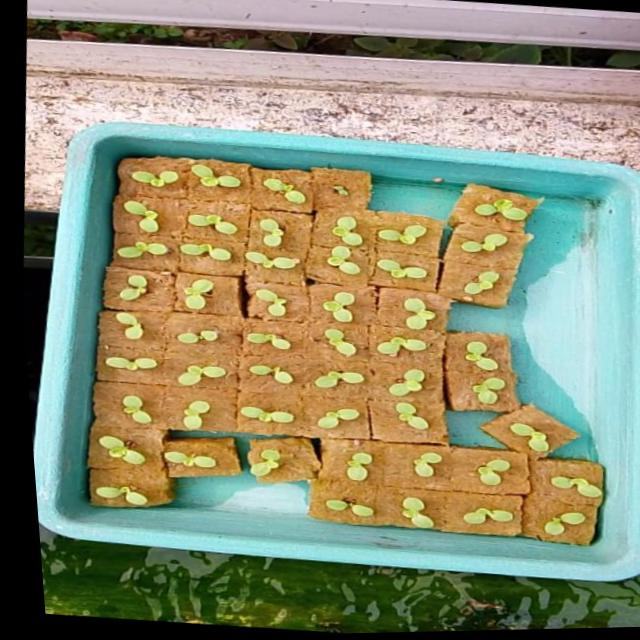Baby: (476, 408, 532, 450), (83, 392, 144, 427), (514, 504, 577, 536), (509, 472, 561, 503), (356, 328, 404, 358), (347, 249, 400, 276), (365, 364, 418, 391), (74, 262, 115, 296), (219, 281, 263, 312), (141, 317, 201, 338), (448, 192, 501, 215), (230, 169, 275, 196), (157, 155, 207, 179), (450, 372, 485, 406), (88, 193, 123, 226), (79, 233, 138, 252), (213, 244, 270, 263), (442, 502, 502, 520), (377, 293, 409, 326), (220, 360, 269, 381), (150, 362, 199, 383), (294, 287, 326, 318), (151, 272, 182, 304), (380, 493, 412, 524), (372, 398, 406, 427), (298, 240, 331, 269), (298, 323, 331, 352), (289, 366, 339, 385), (147, 237, 200, 254), (303, 211, 333, 241), (352, 216, 399, 235), (434, 228, 481, 247), (438, 265, 473, 290), (453, 454, 485, 481), (97, 162, 145, 179), (85, 307, 114, 335), (220, 328, 264, 346), (155, 398, 183, 426), (228, 210, 253, 240), (441, 336, 475, 358), (75, 354, 128, 368), (323, 450, 349, 478), (391, 449, 419, 474), (295, 405, 326, 425), (155, 207, 195, 222)
